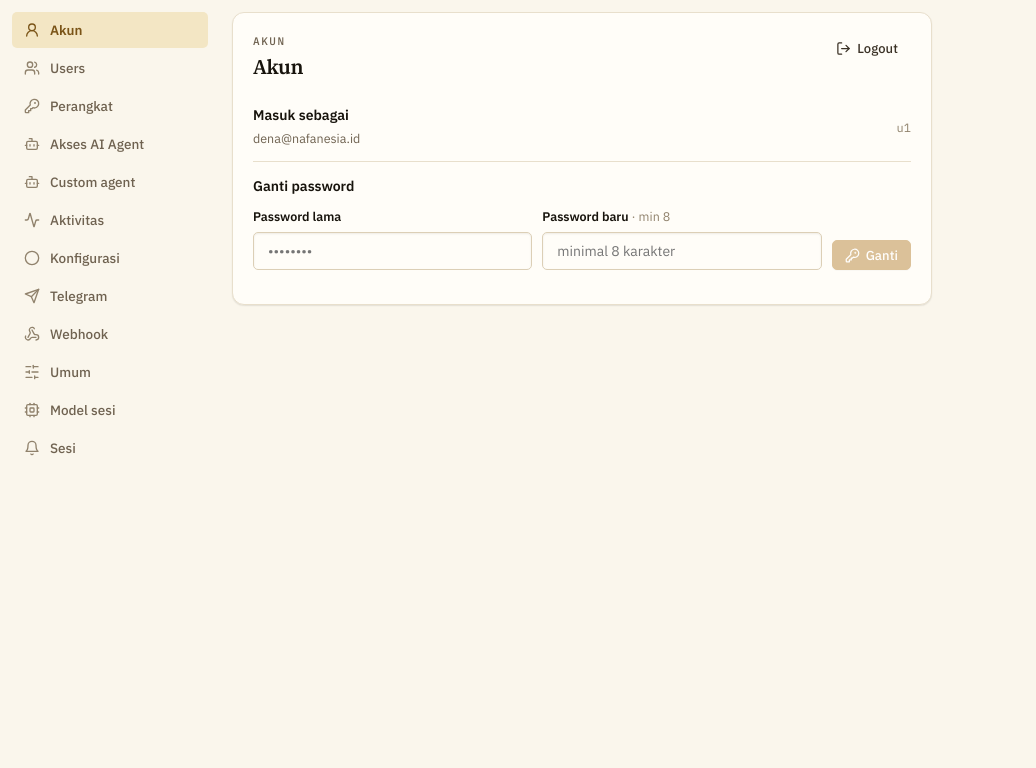
Test case: SPEC-492 · kartu agen operator Telegram › kartu ada di tab Model sesi, bersebelahan dengan kartu lead
Click the button "Model sesi" at (110, 410), box top-left (12, 392), bottom-right (208, 428)
(page scrolled)
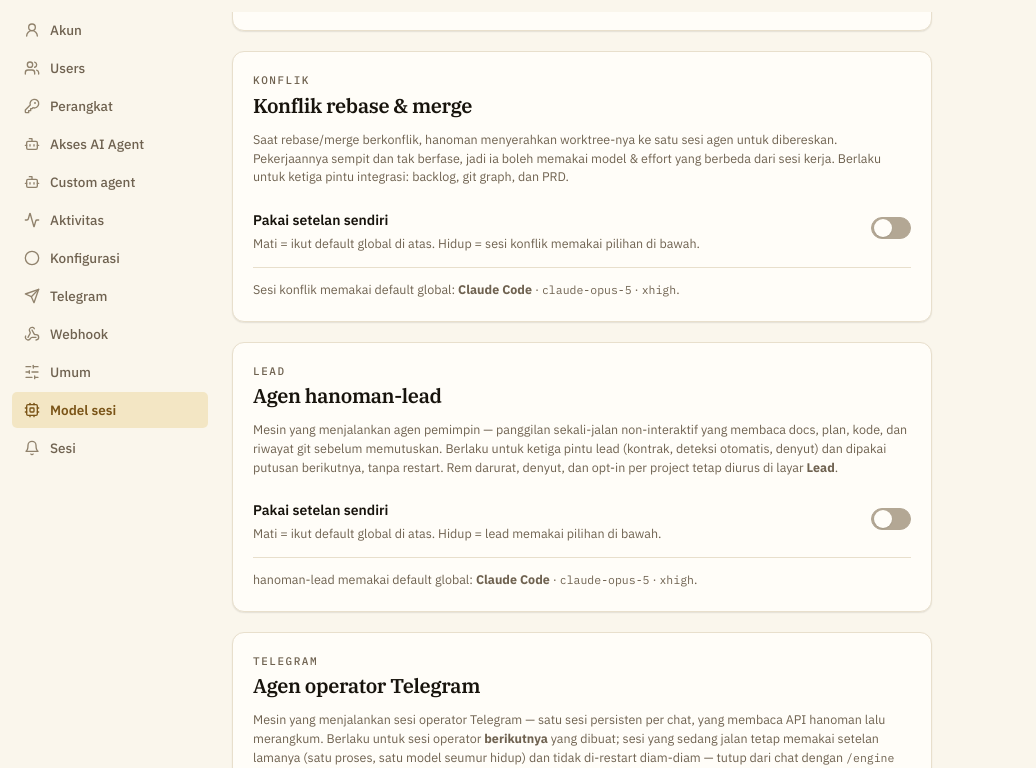
expect the text "Agen operator Telegram" is shown: met, box top-left (253, 674), bottom-right (480, 698)
expect the text "Agen hanoman-lead" is shown: met, box top-left (253, 384), bottom-right (442, 408)
